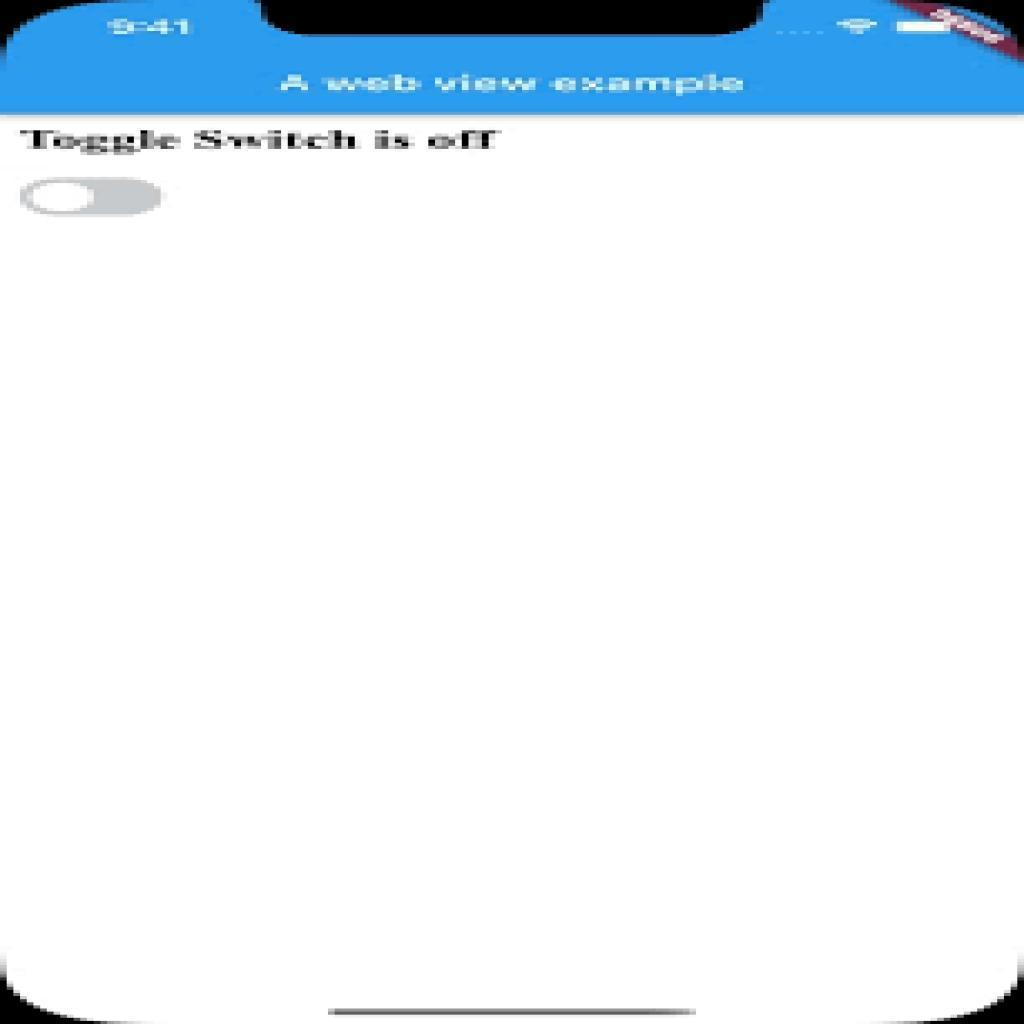switch: (20, 177, 167, 222)
